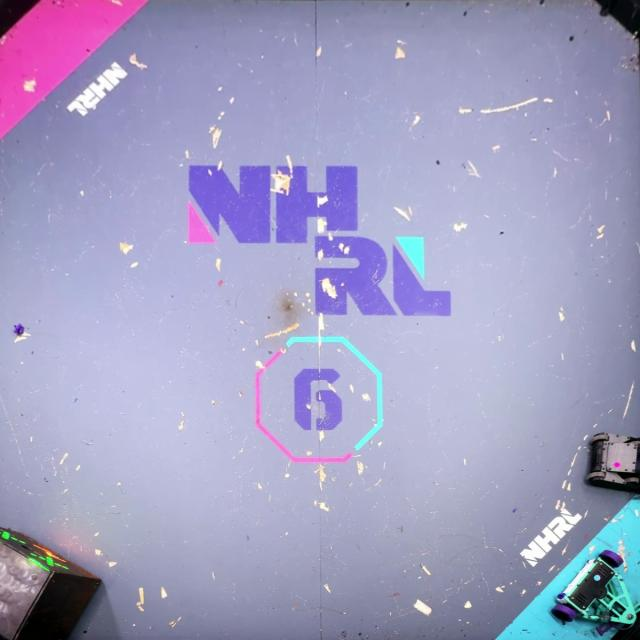housebot: (0, 526, 101, 640)
robot: (550, 546, 640, 640), (582, 427, 640, 494)
